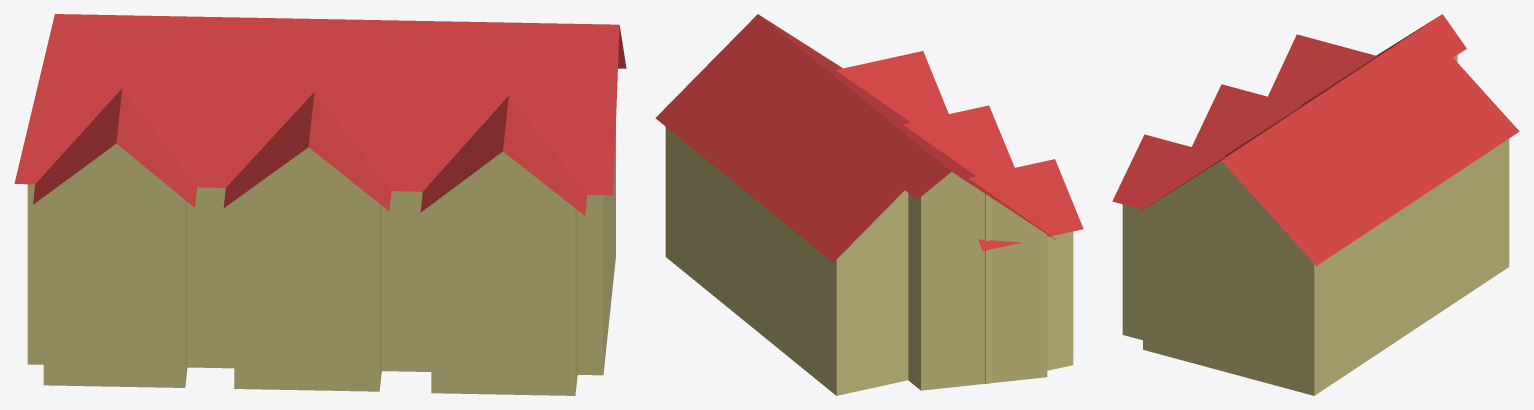
The picture shows the model from 3 angles, left to right: view 1: azimuth 30°, elevation 25°; view 2: azimuth 150°, elevation 25°; view 3: azimuth 270°, elevation 25°; orthographic projection. The views are drawn at different scales.
Bounding box in the file's own units: 33.04 × 27.41 × 15.89.
